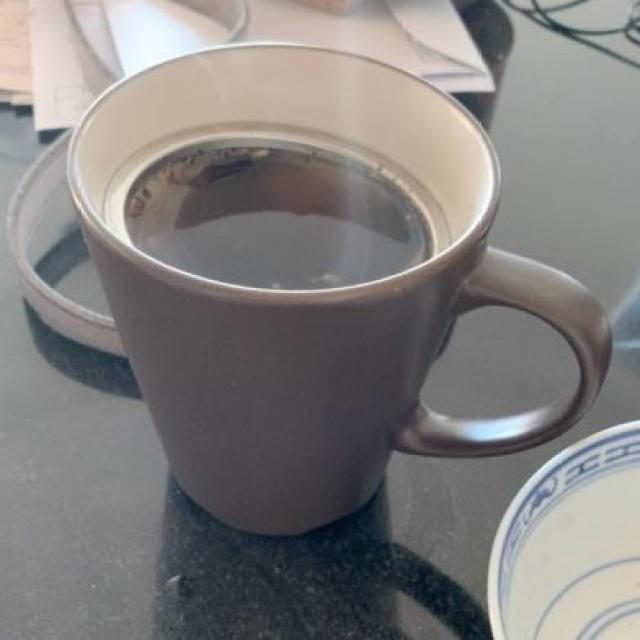tea: (128, 140, 429, 284)
